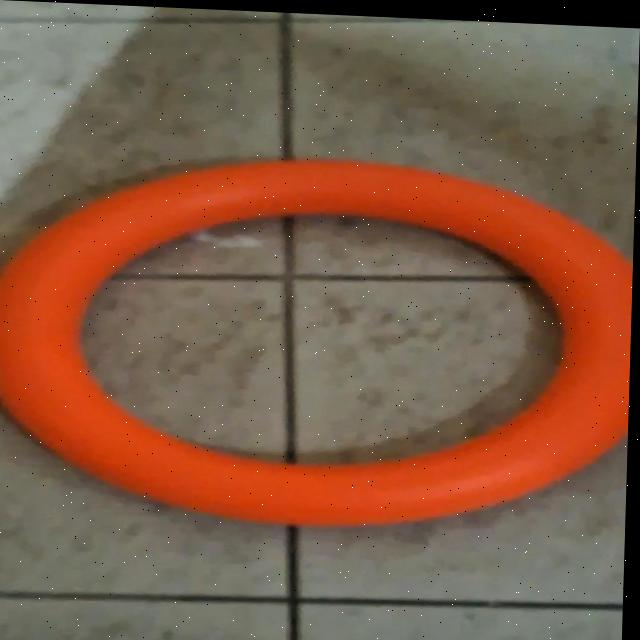note: (0, 143, 635, 536)
